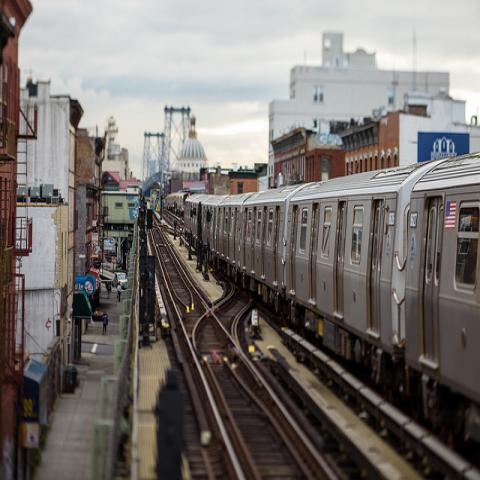car: (113, 273, 127, 288)
